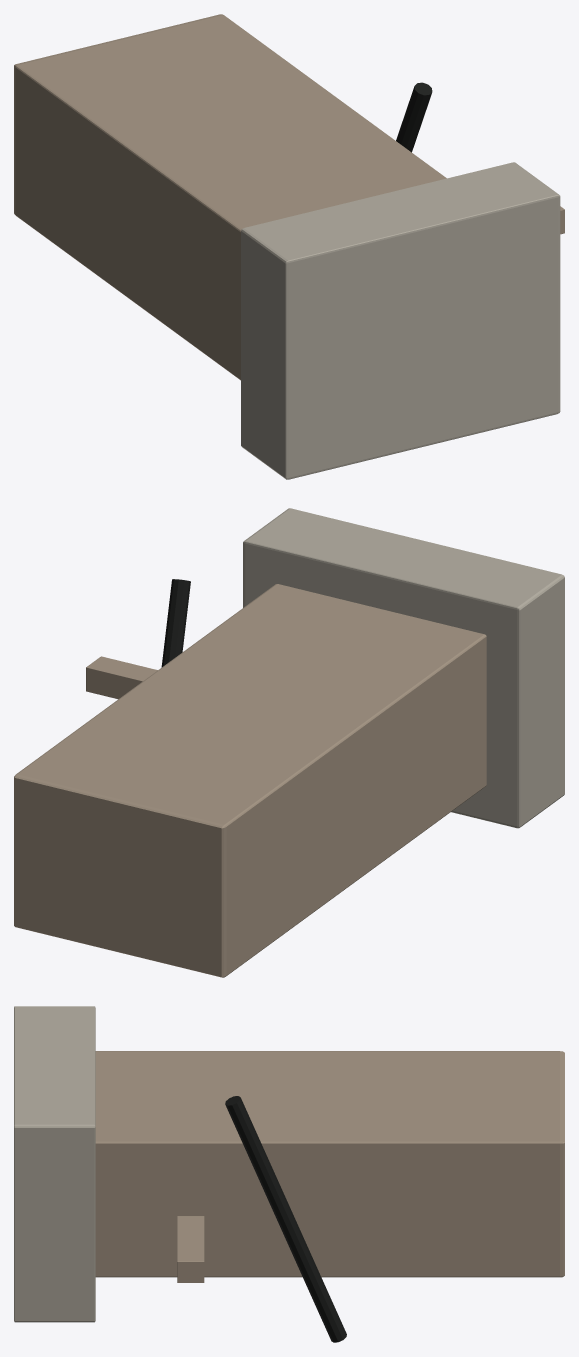
Rendered from dz_blender_gas_pump.glb.
3 views of the same model, one above another, from view 1: azimuth 30°, elevation 25°; view 2: azimuth 150°, elevation 25°; view 3: azimuth 270°, elevation 25° (orthographic). The views are drawn at different scales.
Visible parts, largest first — view 1: socle pompe essence, corps pompe rouille, flexible noir; view 2: corps pompe rouille, socle pompe essence, pistolet pompe, flexible noir; view 3: corps pompe rouille, socle pompe essence, flexible noir, pistolet pompe.
Boxes of the visible parts, x1,y1,x2,y2 form: socle pompe essence: (241, 162, 560, 479); corps pompe rouille: (14, 14, 446, 380); flexible noir: (396, 82, 432, 152); corps pompe rouille: (14, 584, 486, 977); socle pompe essence: (243, 508, 564, 828); pistolet pompe: (86, 656, 157, 699); flexible noir: (161, 579, 190, 667); corps pompe rouille: (95, 1051, 564, 1277); socle pompe essence: (14, 1006, 95, 1322); flexible noir: (225, 1096, 346, 1342); pistolet pompe: (177, 1216, 204, 1282).
Bounding box in the file's own units: 1.13 × 0.8172 × 1.62.
